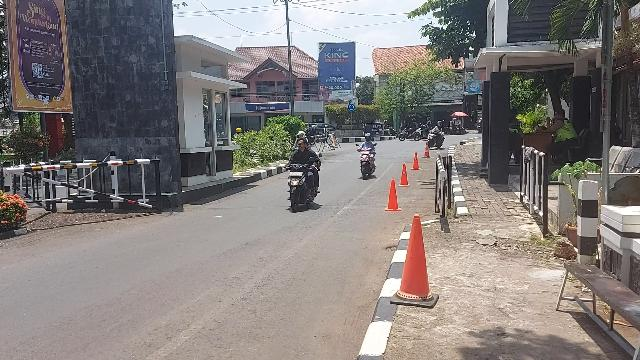helm: (366, 134, 372, 142), (439, 122, 443, 128), (455, 119, 458, 122)
motor: (284, 164, 320, 212), (358, 148, 377, 181), (429, 134, 446, 151), (400, 127, 416, 142), (447, 127, 467, 136), (418, 128, 429, 142), (386, 127, 398, 137)
non-helm: (299, 139, 307, 151), (428, 119, 431, 122)
